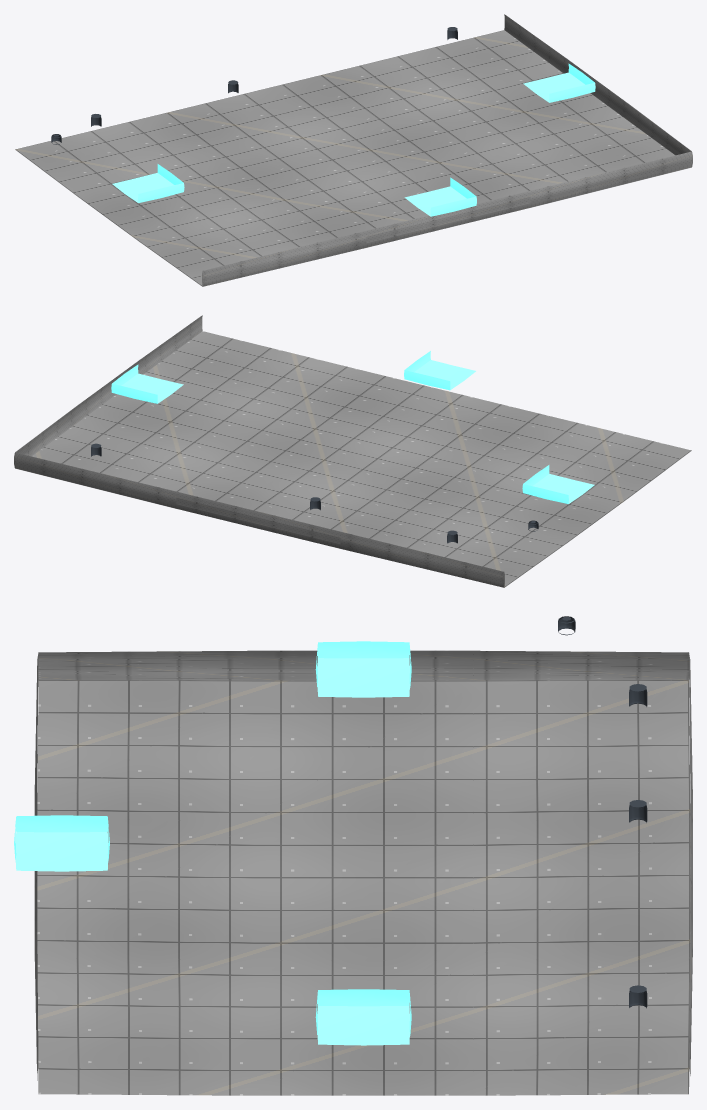
File: greeble_nav_lights.glb
The picture shows the model from 3 angles, top to bottom: view 1: azimuth 30°, elevation 25°; view 2: azimuth 150°, elevation 25°; view 3: azimuth 270°, elevation 25°; orthographic projection. The views are drawn at different scales.
Visible parts, largest first — view 1: Nav_Base, greeble_nav_lights_Material_Accent_Merged, greeble_nav_lights_Material_Mechanical_Merged; view 2: Nav_Base, greeble_nav_lights_Material_Accent_Merged, greeble_nav_lights_Material_Mechanical_Merged; view 3: Nav_Base, greeble_nav_lights_Material_Accent_Merged, greeble_nav_lights_Material_Mechanical_Merged.
Part boxes in pixels (x1,y1,x2,y2): Nav_Base: [15, 14, 692, 286]; greeble_nav_lights_Material_Accent_Merged: [112, 63, 595, 216]; greeble_nav_lights_Material_Mechanical_Merged: [51, 27, 457, 144]; Nav_Base: [14, 315, 691, 587]; greeble_nav_lights_Material_Accent_Merged: [111, 351, 594, 504]; greeble_nav_lights_Material_Mechanical_Merged: [91, 443, 538, 543]; Nav_Base: [34, 650, 692, 1095]; greeble_nav_lights_Material_Accent_Merged: [14, 641, 411, 1045]; greeble_nav_lights_Material_Mechanical_Merged: [558, 616, 647, 1008].
Size of the model in its own units: 3.6 by 0.2825 by 2.48.
3 materials, 1 textured.
